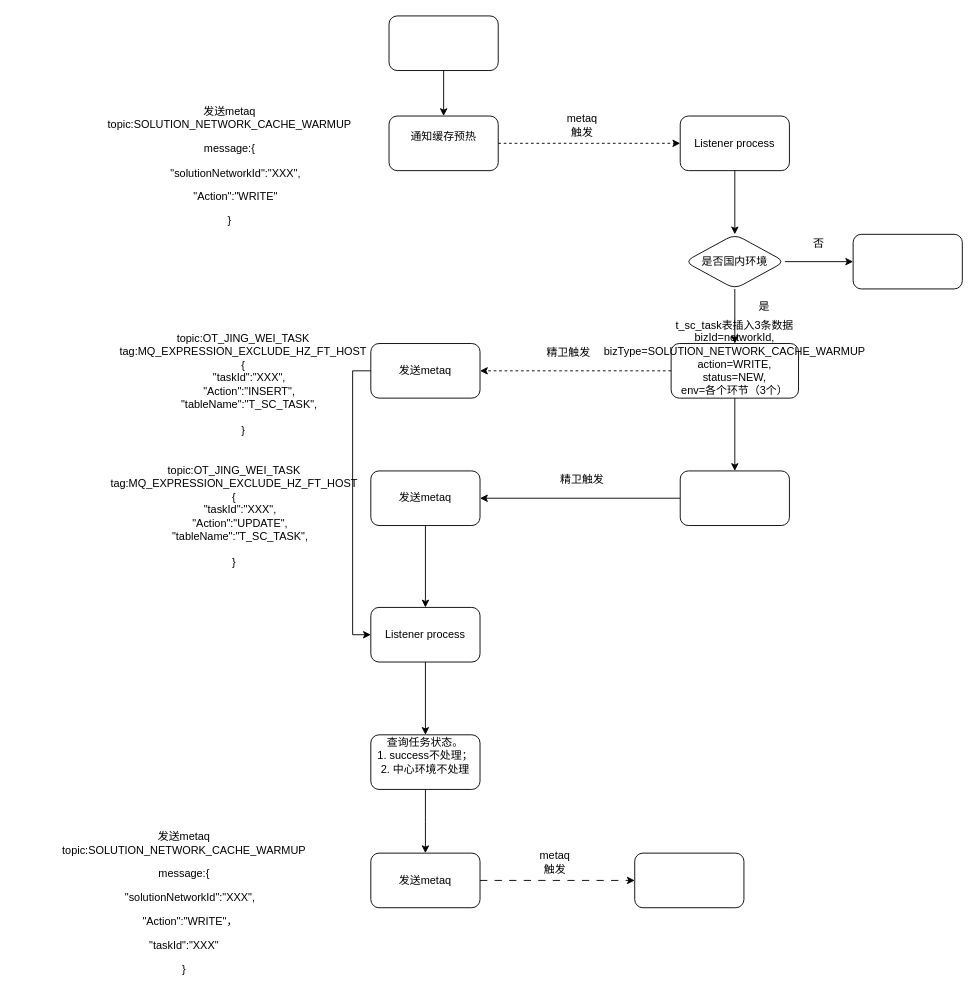
This 978x1003 diagram has some shape labels left out. The shapes that lost their labels are listed below. From the top down, each one's centre as x and y in pixels, then its label:
[443,43]: 点击触发组网
[907,261]: 结束
[734,498]: 中心环境taskId处理任务，更新中心环境status=SUCCESS
[689,880]: 预热； 更新任务status=SUCCESS
